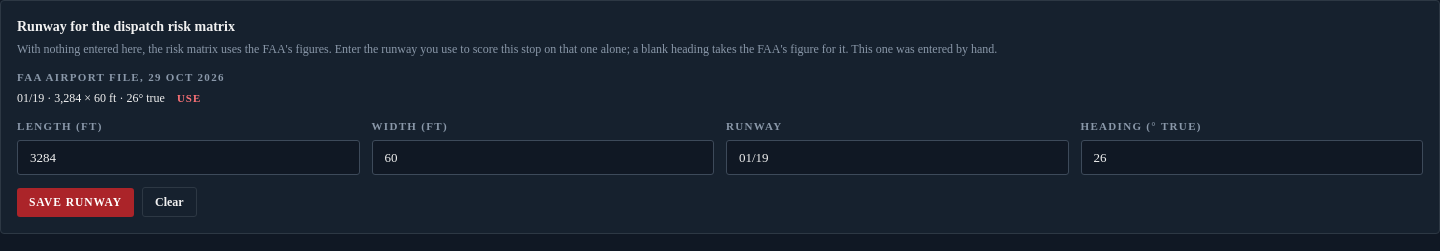
typing it in › opens with what's saved, and Clear clears the heading too
Check: the number field labelled "Heading (° true)" holds "26", box [1080, 140, 1423, 175]
Click the button "Clear" at (169,202), box [142, 187, 197, 217]
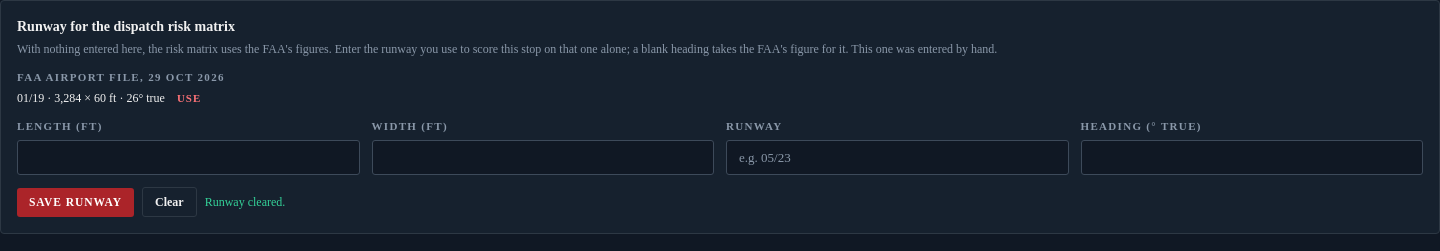
Check: the number field labelled "Heading (° true)" is empty, box [1080, 140, 1423, 175]
